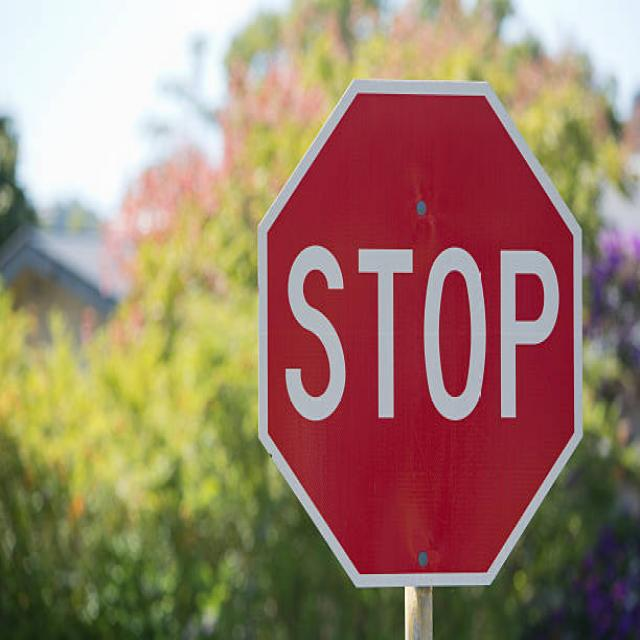stop: (250, 74, 586, 586)
